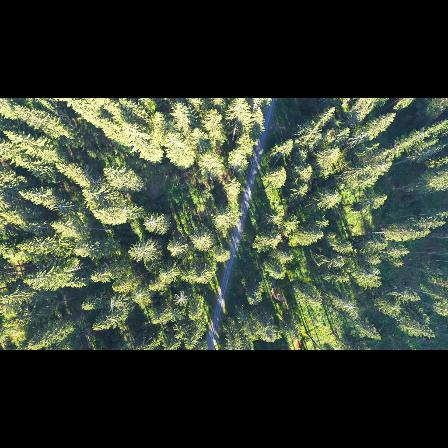Sick: (170, 290, 191, 308), (142, 213, 160, 230), (116, 204, 134, 218)
